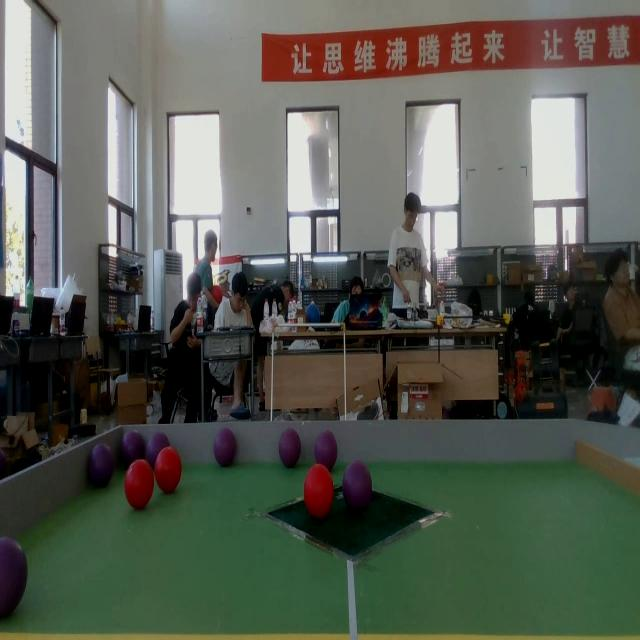invalid: (0, 536, 28, 618), (340, 462, 373, 514), (86, 442, 114, 488), (122, 427, 149, 467), (314, 430, 338, 473), (146, 429, 172, 467), (279, 427, 302, 469), (214, 429, 237, 468)
red: (124, 457, 155, 510), (304, 463, 334, 517), (158, 447, 181, 493)
